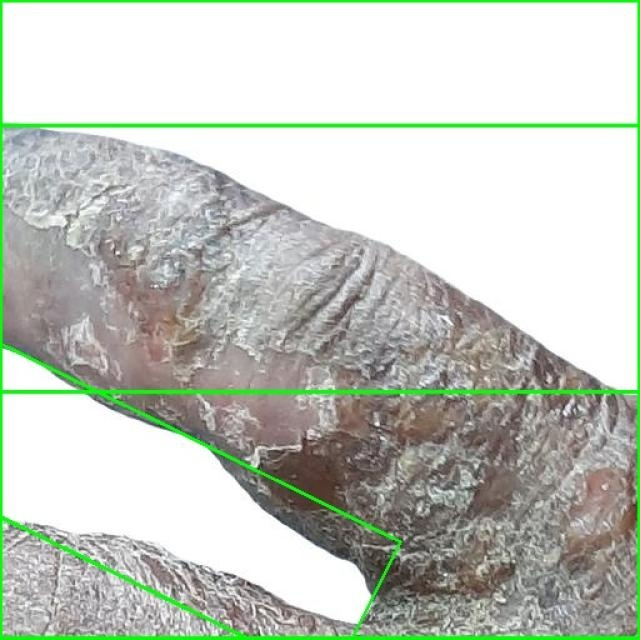Eczema: (0, 125, 639, 639), (0, 0, 639, 391), (0, 345, 405, 640)
